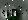person: (10, 7, 16, 16), (2, 8, 7, 18)
